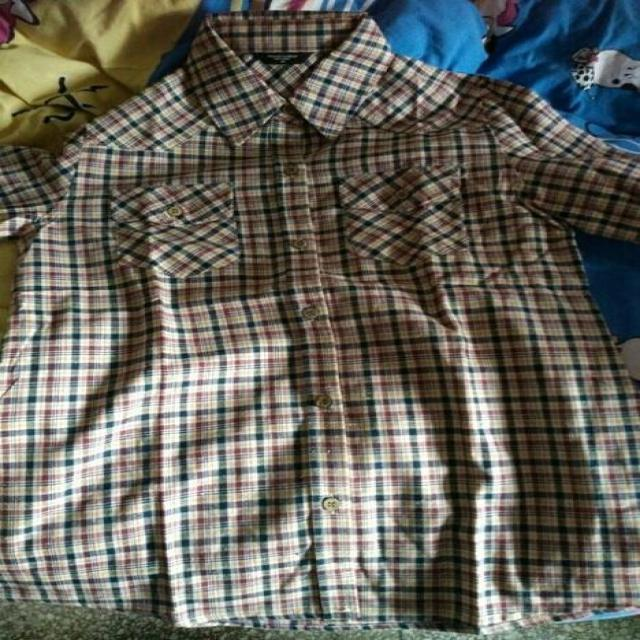long sleeve top: (1, 13, 636, 625)
